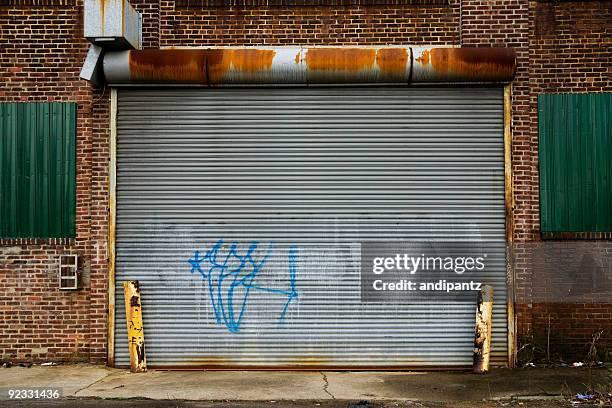graffiti: (184, 240, 308, 335)
